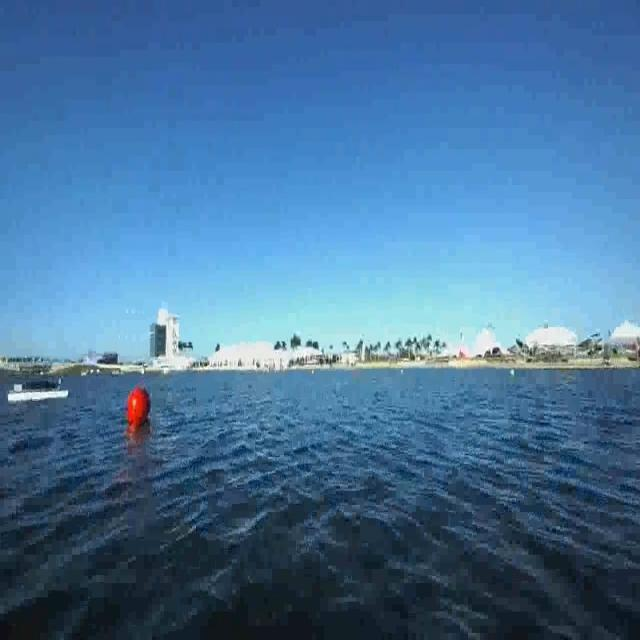red-buoy: (128, 386, 151, 424)
